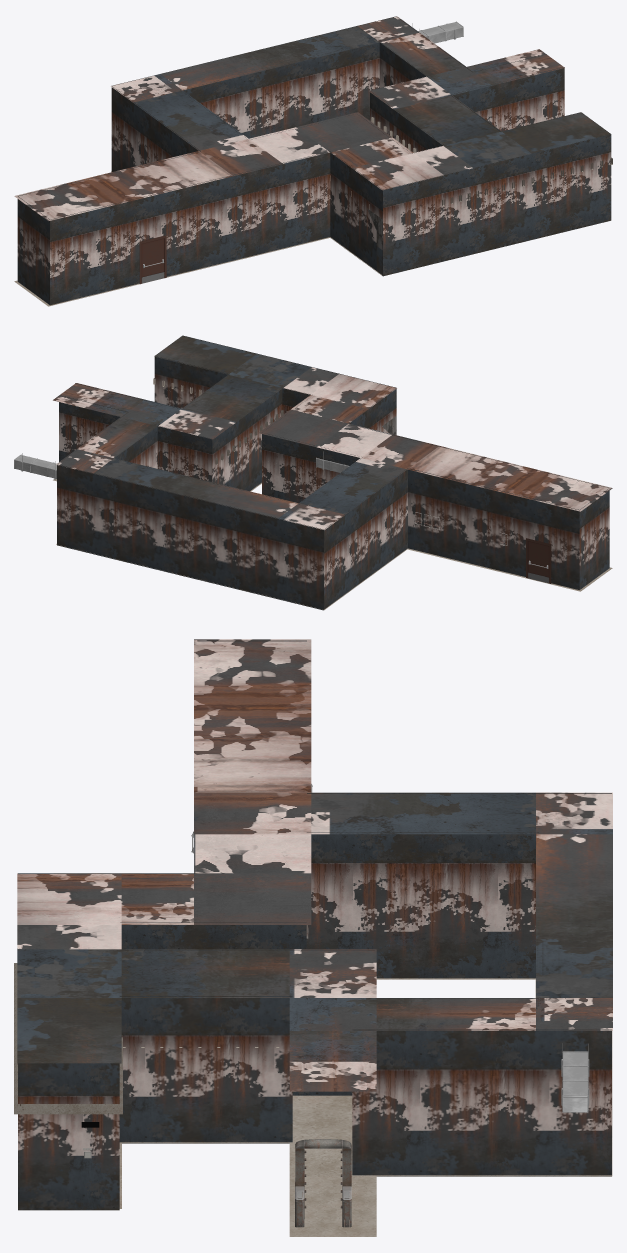
File: ALL Section 4 Present.fbx
The picture shows the model from 3 angles, top to bottom: view 1: azimuth 30°, elevation 25°; view 2: azimuth 150°, elevation 25°; view 3: azimuth 270°, elevation 25°; orthographic projection. The views are drawn at different scales.
Parts seen in each view (by area): view 1: Section4Walls, Section4Floor1, Section4Walls1, Door2, VENTS, Section4Ceilingbars1, Section4Floor2, Pillar5; view 2: Section4Walls, Section4Floor1, Section4Walls1, VENTS, Door2, Section4Floor2, Section4Ceilingbars1; view 3: Section4Floor1, Section4Walls, Section4Walls1, Section4Floor2, GateStuff, Section4Ceilingbars1, VENTS.
Boxes of the visible parts, x1=… form: Section4Walls: x1=17, y1=16, x2=611, y2=305; Section4Floor1: x1=14, y1=16, x2=610, y2=221; Section4Walls1: x1=180, y1=42, x2=444, y2=153; Door2: x1=141, y1=238, x2=164, y2=283; VENTS: x1=412, y1=21, x2=463, y2=43; Section4Ceilingbars1: x1=330, y1=117, x2=612, y2=209; Section4Floor2: x1=14, y1=171, x2=382, y2=306; Pillar5: x1=367, y1=208, x2=382, y2=274; Section4Walls: x1=57, y1=335, x2=609, y2=610; Section4Floor1: x1=53, y1=336, x2=612, y2=529; Section4Walls1: x1=113, y1=388, x2=362, y2=504; VENTS: x1=14, y1=451, x2=349, y2=479; Door2: x1=528, y1=541, x2=549, y2=583; Section4Floor2: x1=53, y1=479, x2=612, y2=609; Section4Ceilingbars1: x1=153, y1=378, x2=388, y2=474; Section4Floor1: x1=17, y1=639, x2=612, y2=1091; Section4Walls: x1=18, y1=640, x2=611, y2=1210; Section4Walls1: x1=120, y1=832, x2=538, y2=1095; Section4Floor2: x1=119, y1=978, x2=612, y2=1236; GateStuff: x1=295, y1=1139, x2=351, y2=1227; Section4Ceilingbars1: x1=14, y1=963, x2=279, y2=1114; VENTS: x1=561, y1=1043, x2=589, y2=1112.
Size of the model in its own units: 3011 by 456 by 1683.
